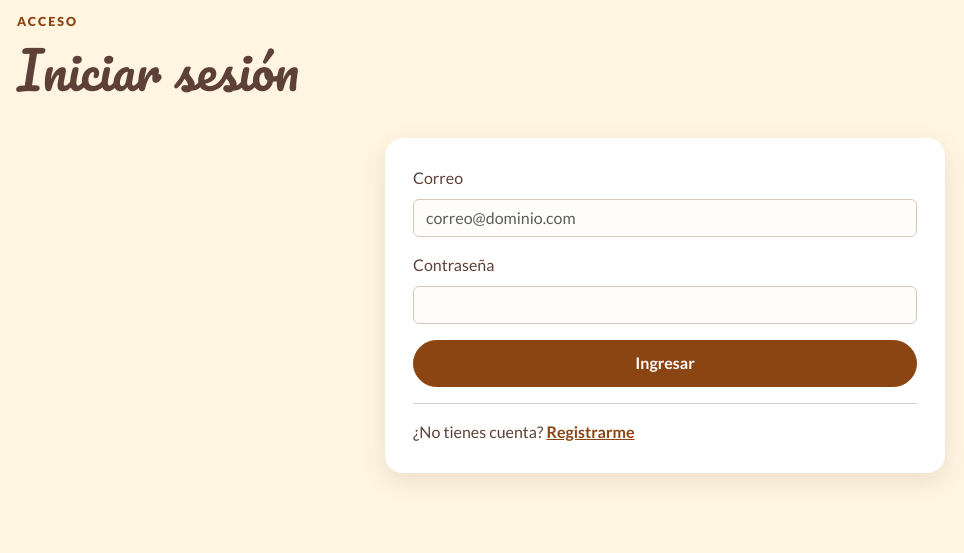
it: Inicio de sesión › muestra errores con correo no permitido y contraseña corta
The image size is (964, 553).
Type "maria@correo.cl" into the field labelled "Correo" at (665, 218), box [413,199,917,237]
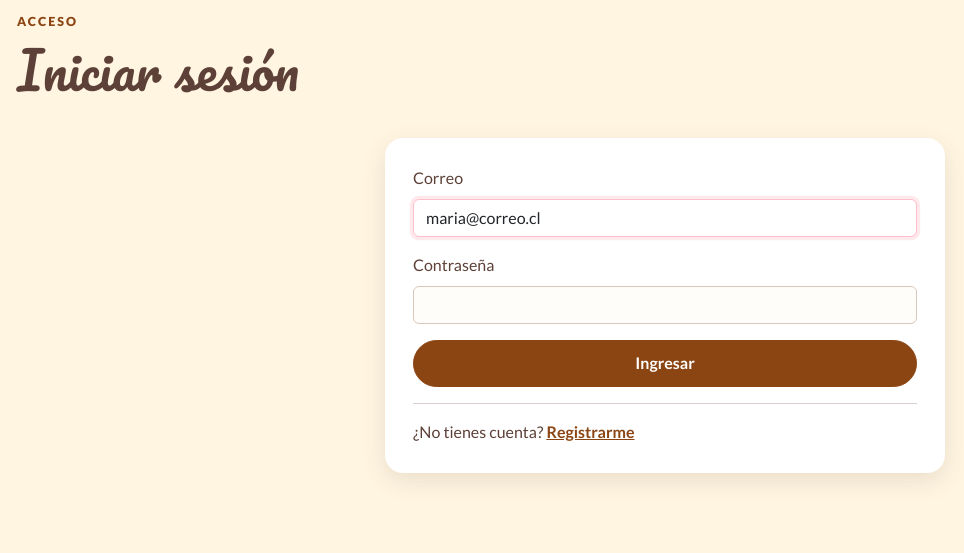
Type "123" into the password field labelled "Contraseña" at (665, 305), box [413,286,917,324]
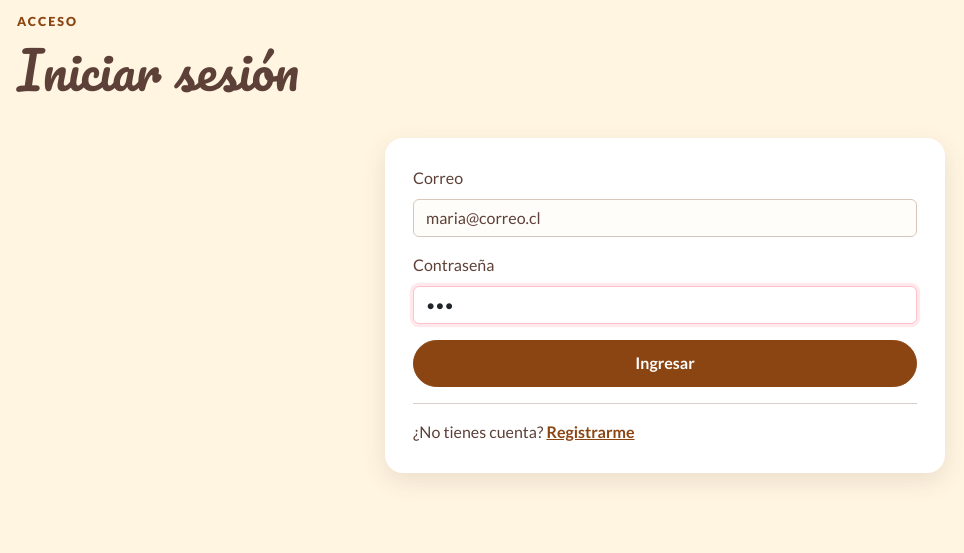
Click the button "Ingresar" at (665, 363), box [413,340,917,387]
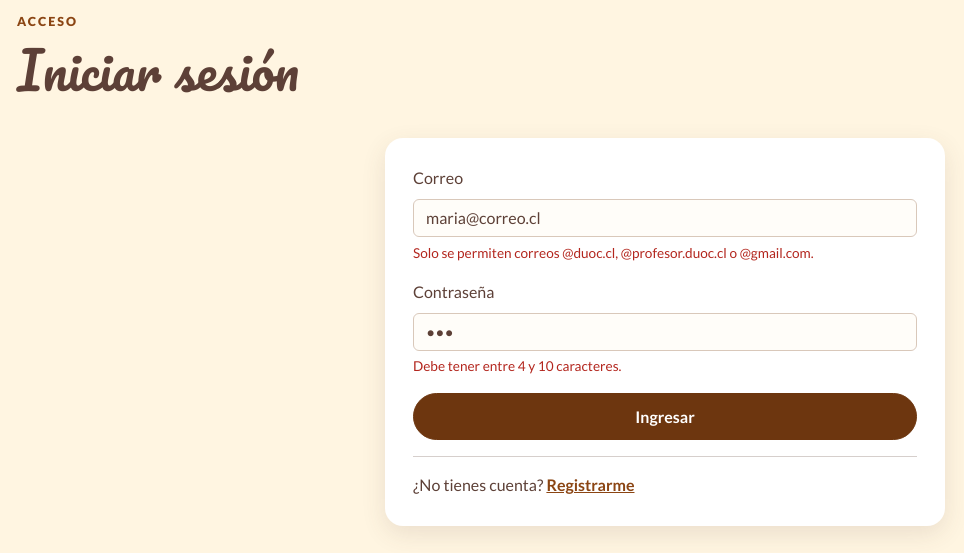
expect the text "Solo se permiten correos" is shown: met, box [413,245,814,261]
expect the text "Debe tener entre 4 y 10 caracteres." is shown: met, box [413,358,621,374]
